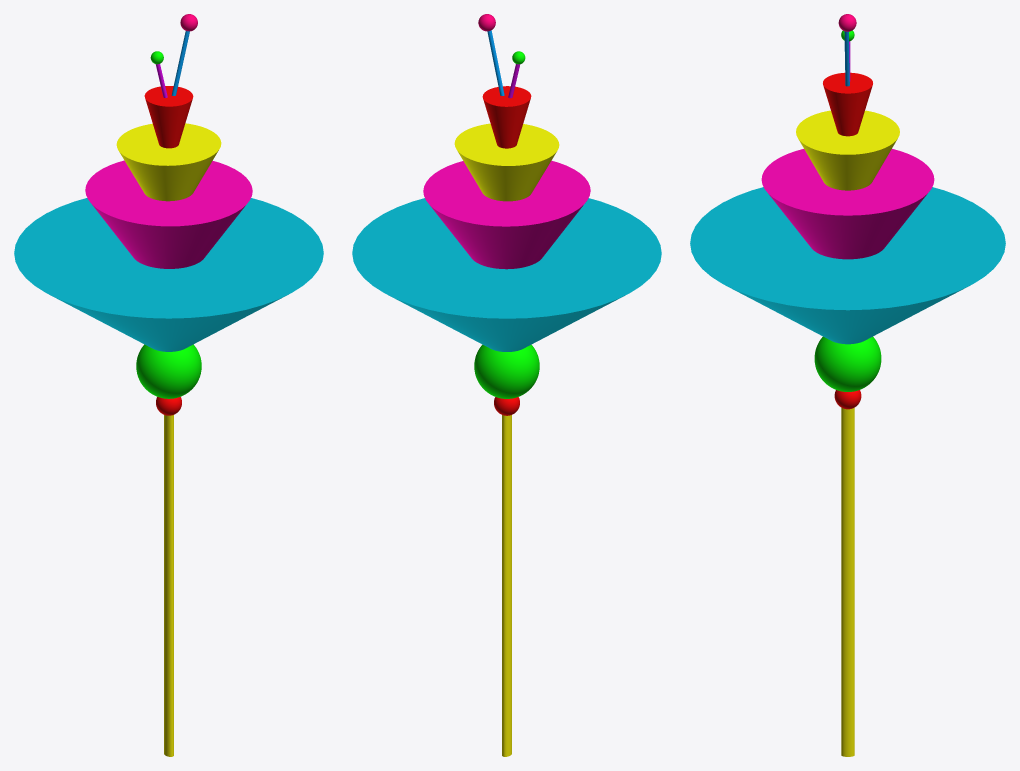
Rendered from flower.glb.
3 views of the same model, side by side, from view 1: azimuth 30°, elevation 25°; view 2: azimuth 150°, elevation 25°; view 3: azimuth 270°, elevation 25° (orthographic). The views are drawn at different scales.
Visible parts, largest first — view 1: Cone 2, Cone 4, Cone 3, Cylinder, Sphere 2, Cone; view 2: Cone 2, Cone 4, Cone 3, Cylinder, Sphere 2, Cone; view 3: Cone 2, Cone 4, Cone 3, Cylinder, Sphere 2, Cone.
Boxes of the visible parts, x1=… form: Cone 2: x1=14, y1=198, x2=323, y2=351; Cone 4: x1=85, y1=160, x2=252, y2=268; Cone 3: x1=116, y1=123, x2=221, y2=201; Cylinder: x1=164, y1=415, x2=173, y2=756; Sphere 2: x1=136, y1=344, x2=201, y2=398; Cone: x1=144, y1=86, x2=193, y2=148; Cone 2: x1=352, y1=198, x2=661, y2=351; Cone 4: x1=423, y1=160, x2=590, y2=269; Cone 3: x1=454, y1=123, x2=559, y2=201; Cylinder: x1=502, y1=415, x2=511, y2=756; Sphere 2: x1=474, y1=344, x2=539, y2=398; Cone: x1=482, y1=86, x2=531, y2=148; Cone 2: x1=690, y1=187, x2=1005, y2=344; Cone 4: x1=761, y1=149, x2=934, y2=259; Cone 3: x1=796, y1=110, x2=899, y2=190; Cylinder: x1=841, y1=407, x2=854, y2=756; Sphere 2: x1=814, y1=336, x2=881, y2=391; Cone: x1=823, y1=72, x2=872, y2=136.
Bounding box in the file's own units: 0.7089 × 1.85 × 0.7076.
